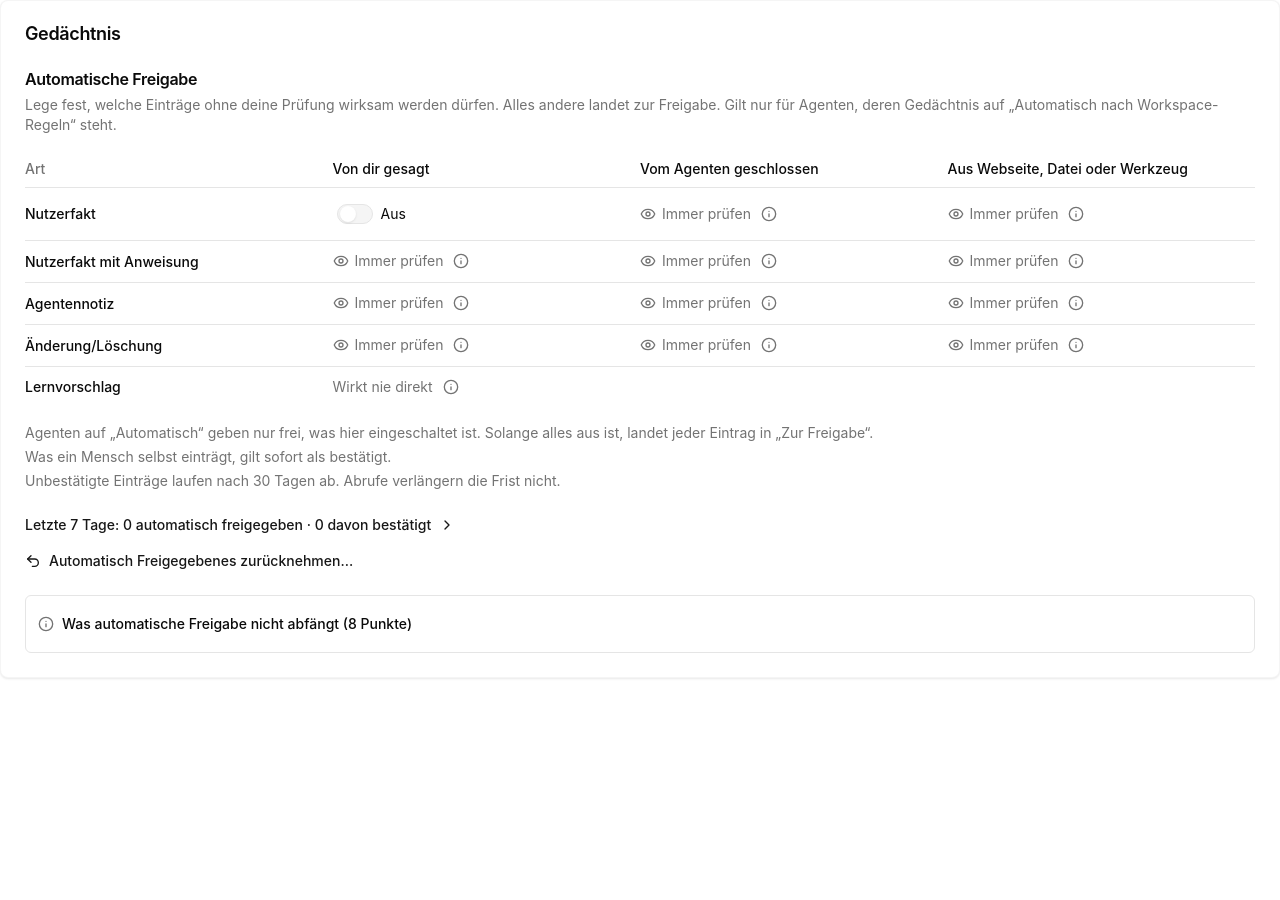
MemoryApprovalSection (Lernschleife C6, ADR-0053 4.2/4.3) › Abbrechen im Dialog sendet nichts und lässt die Zelle aus
Step 1. Click the switch → (371, 214), box [332, 196, 410, 232]
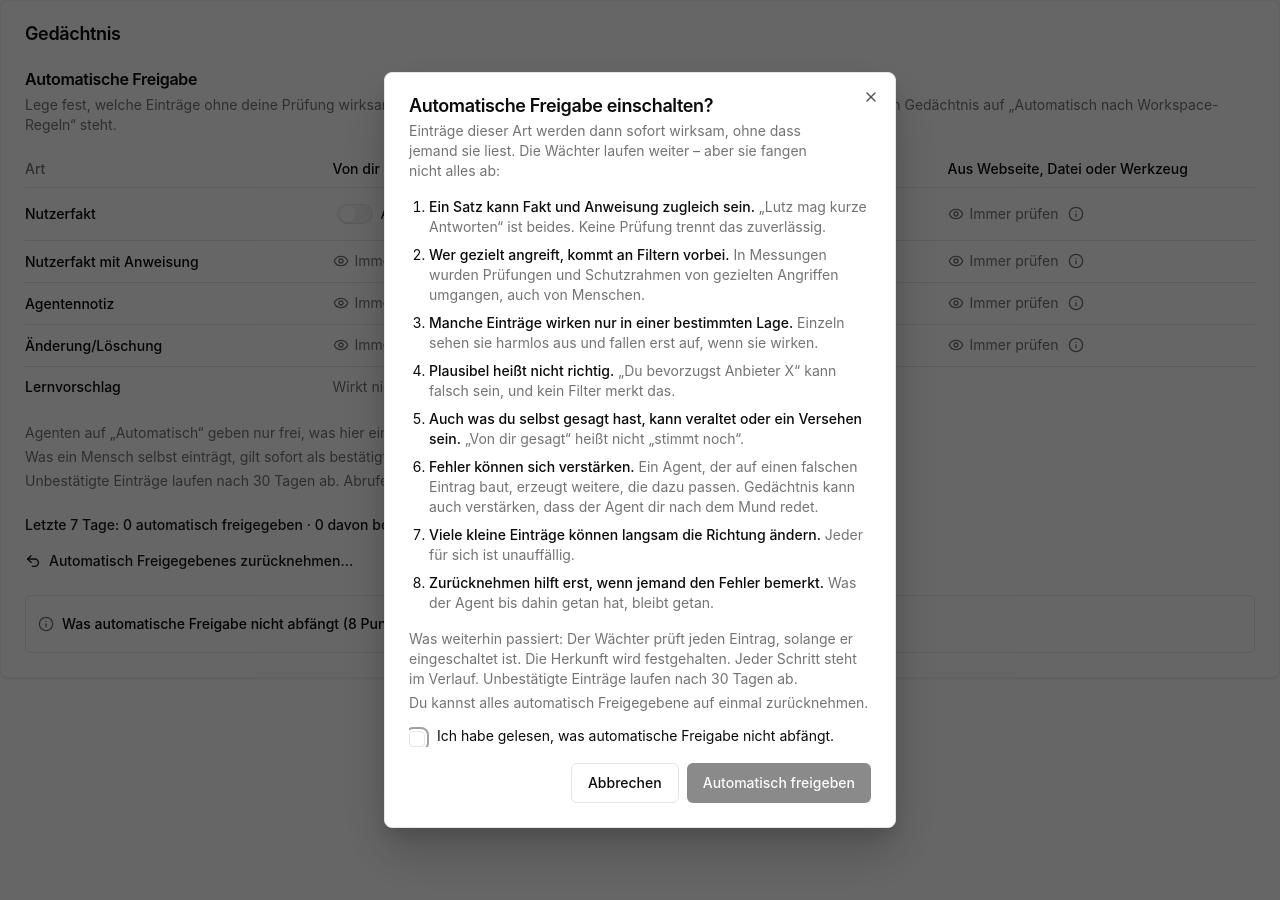
Step 2. Click the button "Abbrechen" → (625, 783), box [571, 763, 679, 803]
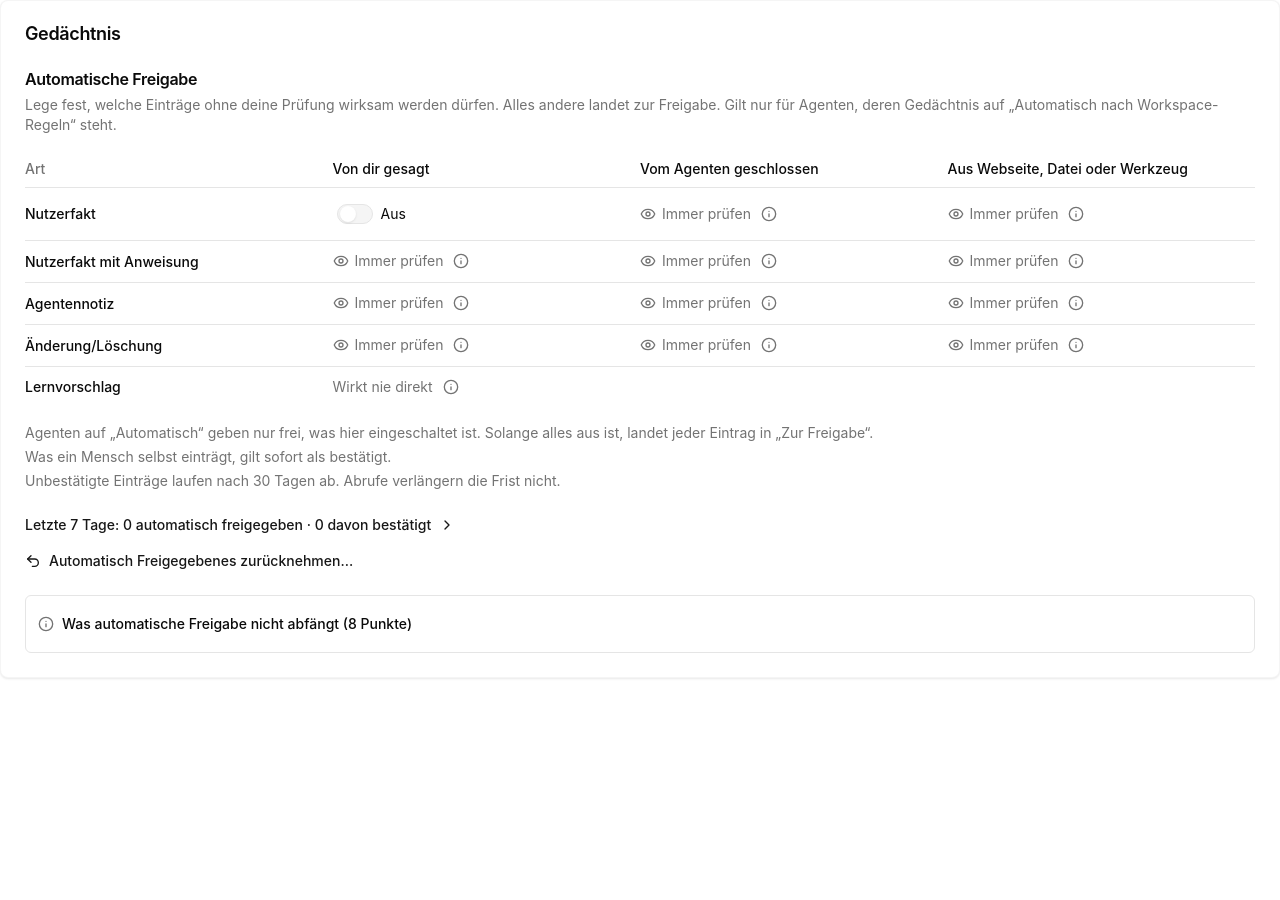
Expected: the dialog is gone
